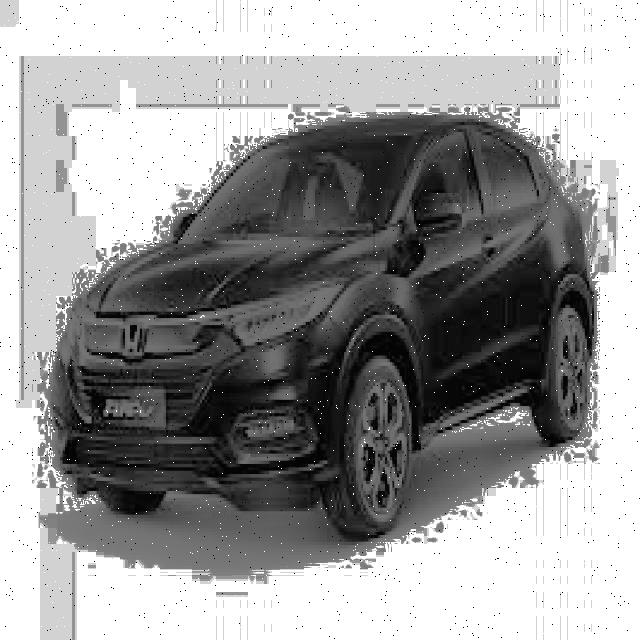Car: (41, 116, 614, 540)
